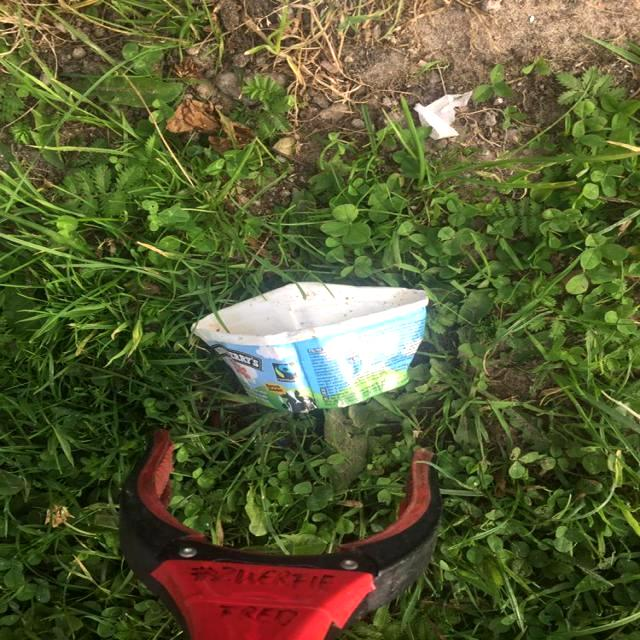Paper: (188, 280, 430, 414)
